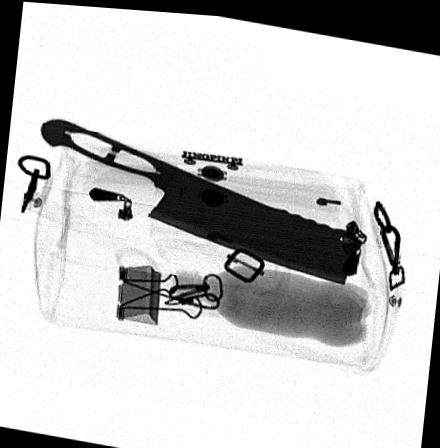Knife: (39, 116, 363, 281)
